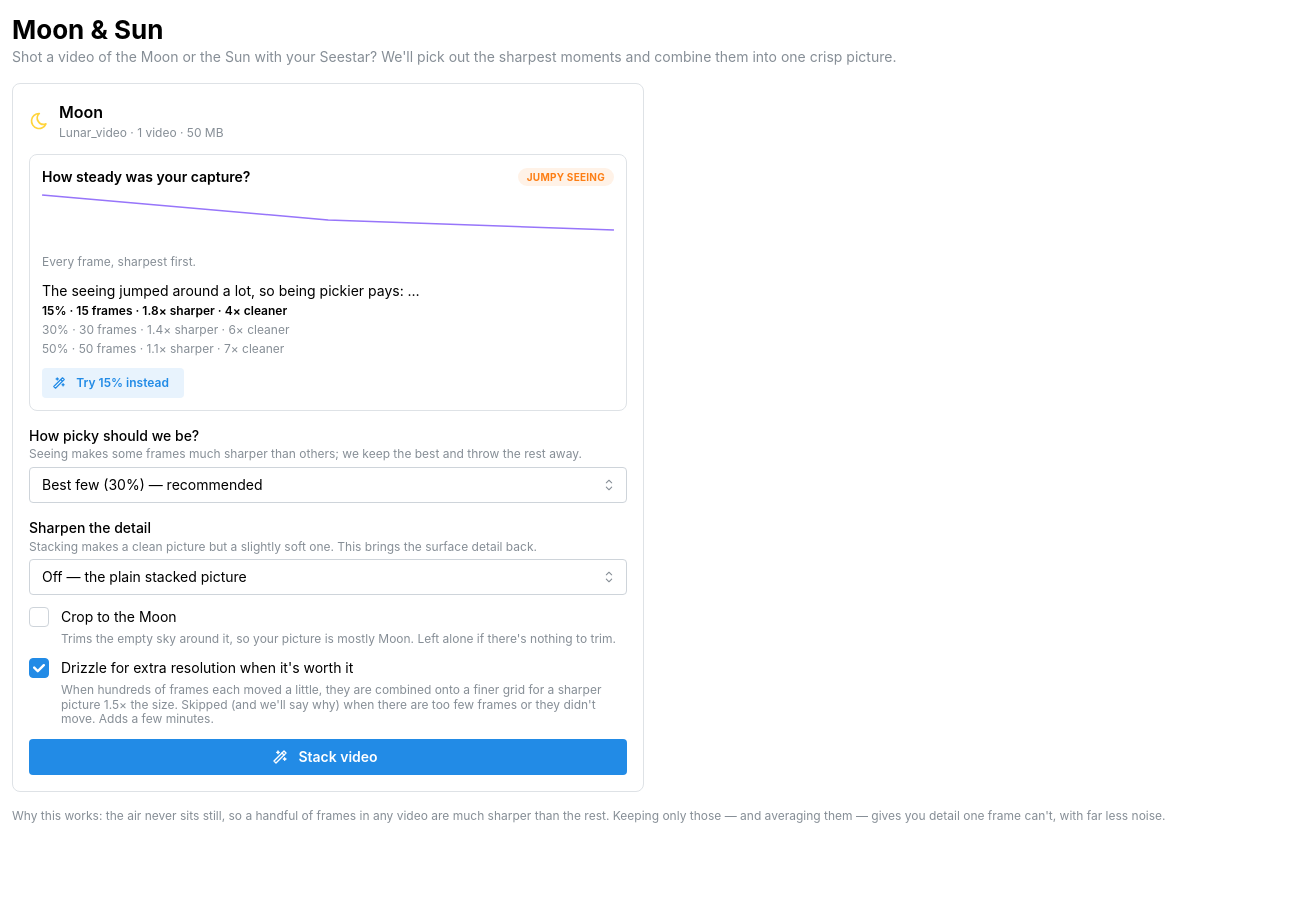
Test case: MoonSunView › replaces the check button with its panel once the capture is graded
Check: the text "How steady was your capture?" is shown, box [42,167,250,187]
Click the button "Try 15% instead" at (113, 383), box [42,368,184,398]
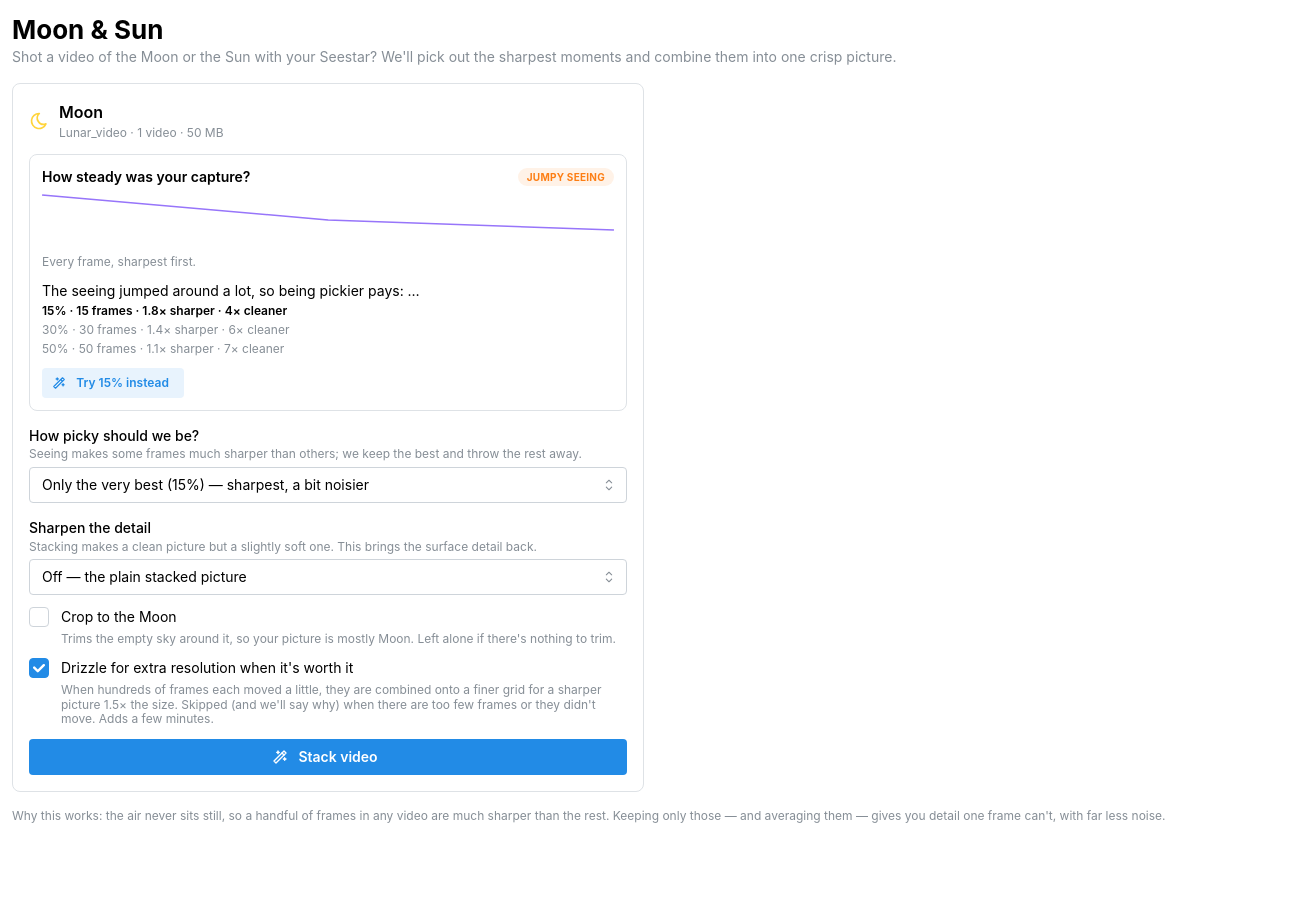
Check: the field showing "Only the very best (15%)" is shown, box [29,467,627,503]
